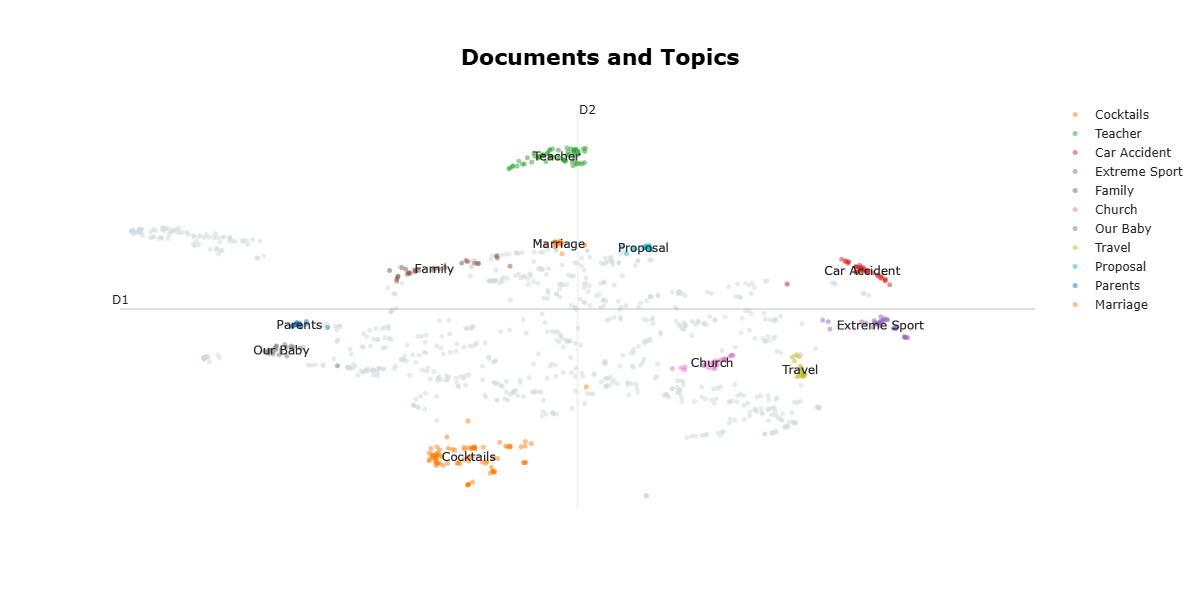

The page's visual inventory and layout, read from the dashboard file:
{"tool":"tableau","page":{"name":"Communication Density Analysis","canvas":[1366,768],"ordinal":0},"visuals":[{"type":"text","box":[0,0,1366,119]},{"type":"blank","box":[0,119,1366,5]},{"type":"worksheet","title":"Sheet 1","mark":"Automatic","rows":["Chat (faked_chat_data_unbalanced.csv)"],"cols":["Date (faked_chat_data_unbalanced.csv)"],"box":[0,124,1366,644]}]}

Visuals, with their boxes on the page's 1366x768 design canvas (x1, y1, x2, y2). These are canvas units, not pixel positions in the 1200x600 screenshot, which may show the page scaled, cropped or inside an application window:
text: 0:0:1366:119
blank: 0:119:1366:124
"Sheet 1" worksheet: 0:124:1366:768
